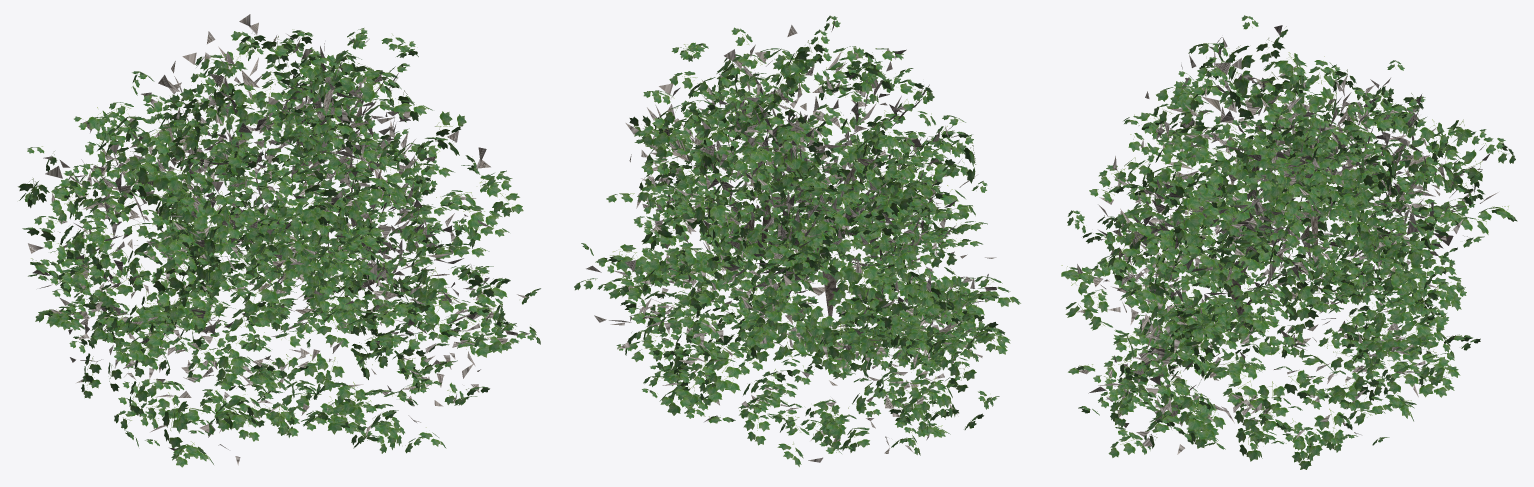
The model's file is tree-tulip.glb.
3 views of the same model, side by side, from view 1: azimuth 30°, elevation 25°; view 2: azimuth 150°, elevation 25°; view 3: azimuth 270°, elevation 25° (orthographic).
Visible parts, largest first — view 1: tree-tulip; view 2: tree-tulip; view 3: tree-tulip.
Part boxes in pixels (x1,y1,x2,y2): tree-tulip: (18,14,540,467); tree-tulip: (574,15,1020,466); tree-tulip: (1061,15,1517,469).
Bounding box in the file's own units: 9.77 × 8.57 × 9.09.
2 materials, 2 textured.
